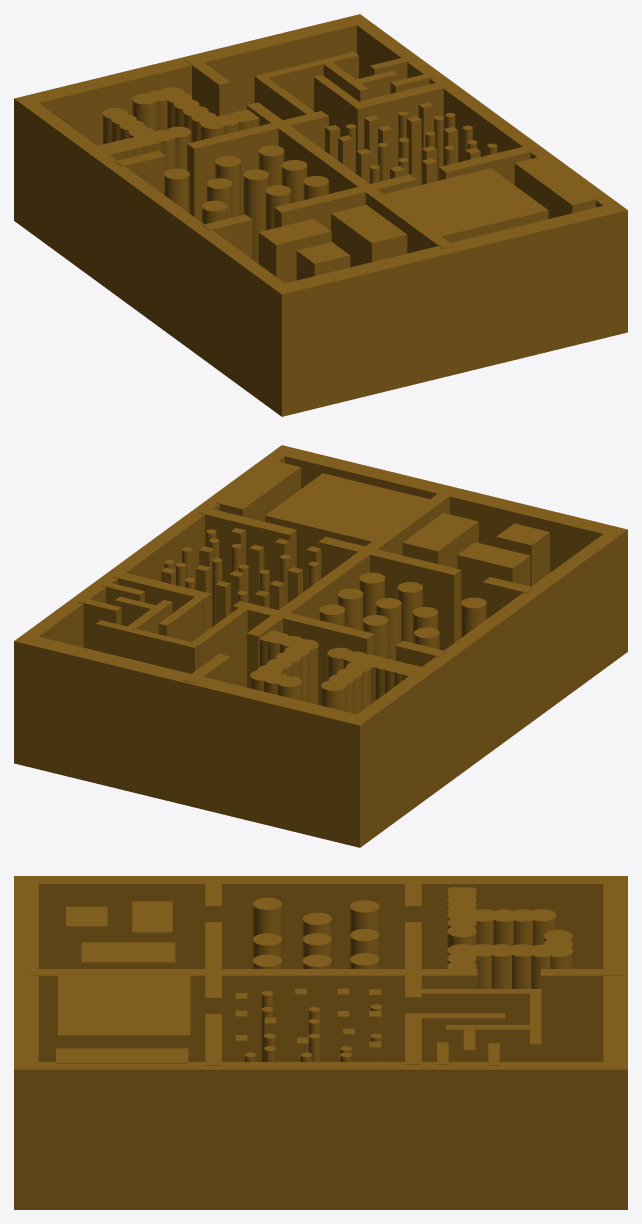
The model's file is Map7.obj.
3 renders of one model, top to bottom at view 1: azimuth 30°, elevation 25°; view 2: azimuth 150°, elevation 25°; view 3: azimuth 270°, elevation 25°, orthographic. The views are drawn at different scales.
Parts seen in each view (by area): view 1: MAP.EDGE, OBSTACLE; view 2: MAP.EDGE, OBSTACLE; view 3: MAP.EDGE, OBSTACLE.
Boxes of the visible parts, <box> form: MAP.EDGE: <box>14,14,627,416</box>; OBSTACLE: <box>98,52,598,283</box>; MAP.EDGE: <box>14,445,627,847</box>; OBSTACLE: <box>77,460,549,714</box>; MAP.EDGE: <box>14,876,627,1209</box>; OBSTACLE: <box>29,881,623,1065</box>.
Bounding box in the file's own units: 5990 × 2031 × 8030.
